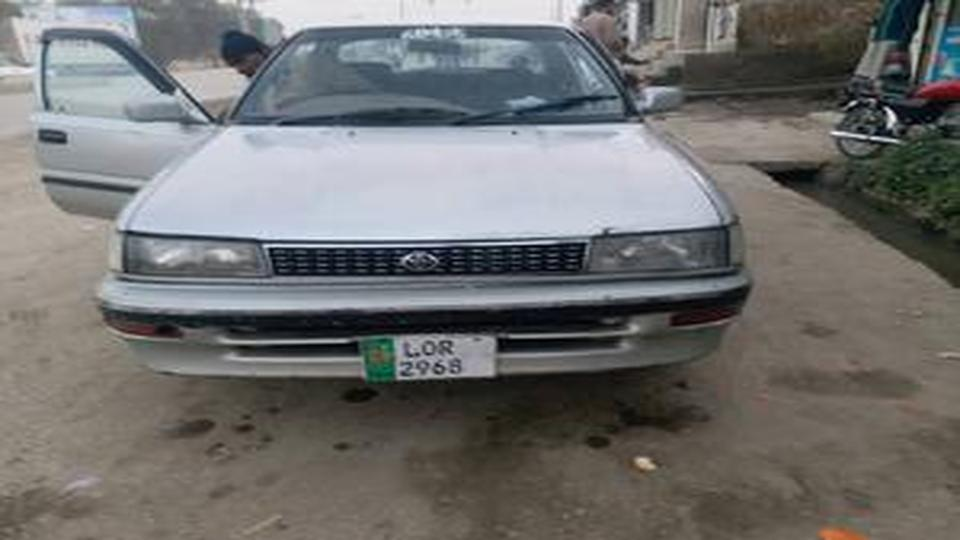NumberPlate: (356, 345, 500, 392)
